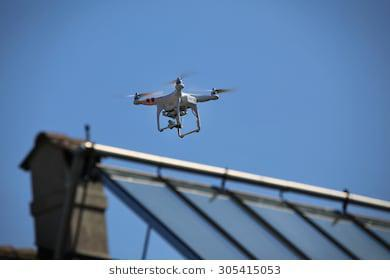drone: (99, 69, 255, 143)
